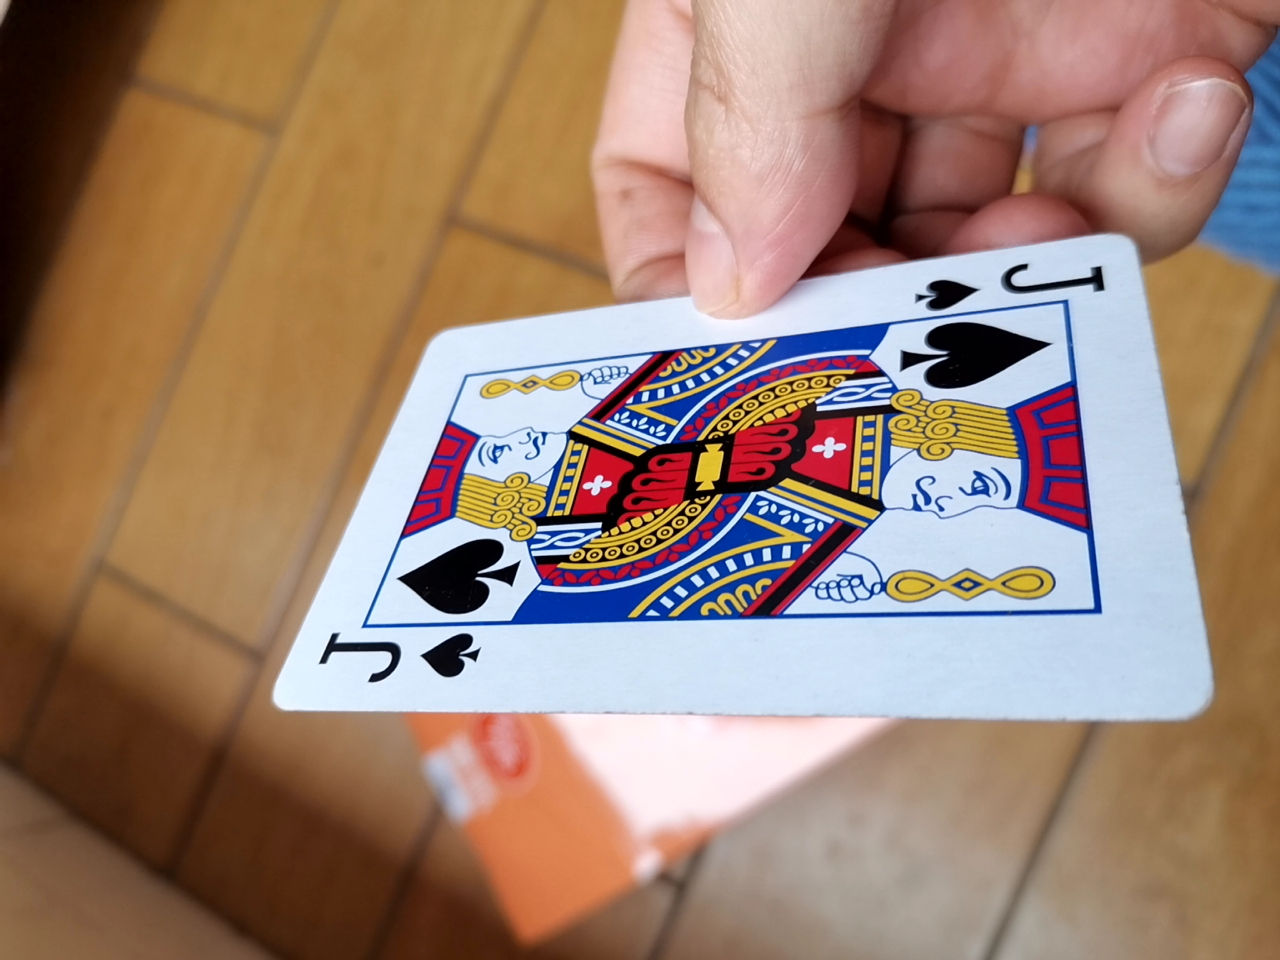ht j: (255, 243, 1208, 755)
